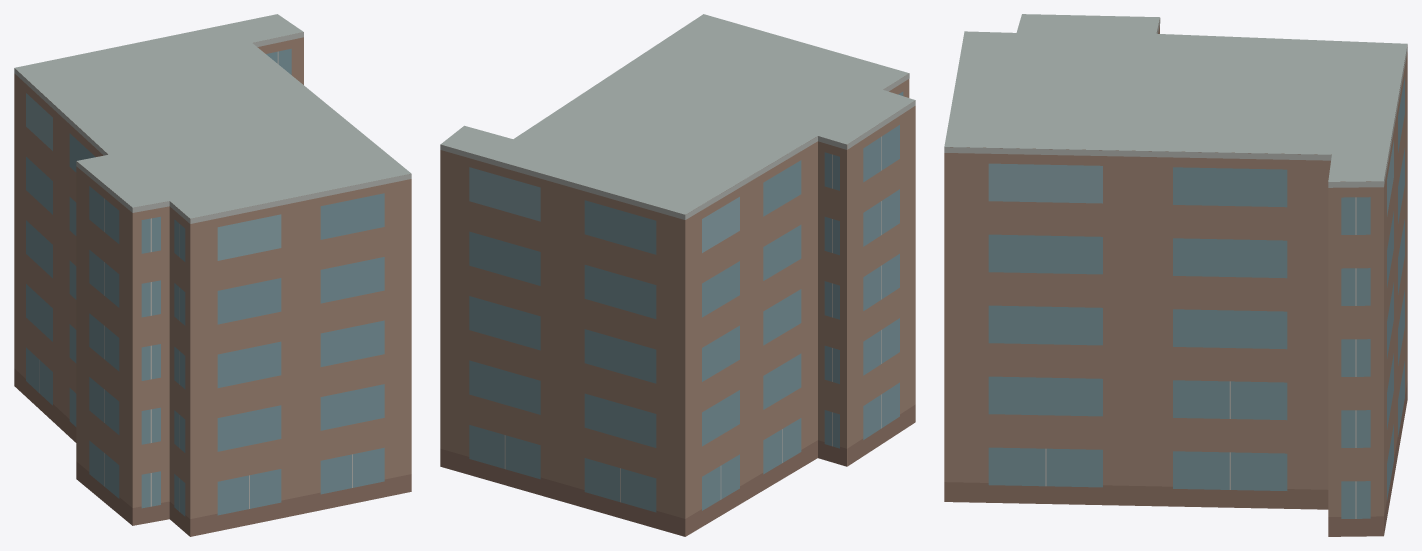
The model's file is survey-upis-32870218.glb.
3 renders of one model, left to right at view 1: azimuth 30°, elevation 25°; view 2: azimuth 150°, elevation 25°; view 3: azimuth 270°, elevation 25°, orthographic. The views are drawn at different scales.
Visible parts, largest first — view 1: survey-upis-32870218.tmp; view 2: survey-upis-32870218.tmp; view 3: survey-upis-32870218.tmp.
Part boxes in pixels (x1,y1,x2,y2): survey-upis-32870218.tmp: [14, 14, 411, 536]; survey-upis-32870218.tmp: [440, 14, 915, 536]; survey-upis-32870218.tmp: [944, 14, 1407, 536].
Size of the model in its own units: 14.82 by 14.6 by 17.29.
